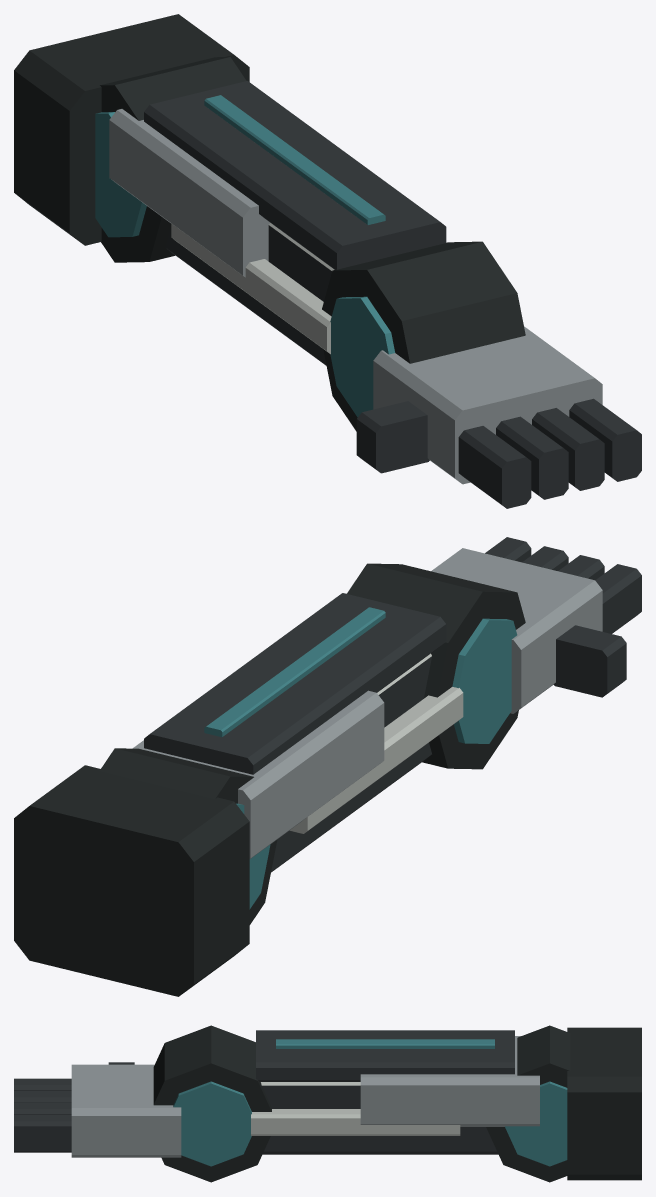
Rendered from BionicArm.gltf.
3 views of the same model, one above another, from view 1: azimuth 30°, elevation 25°; view 2: azimuth 150°, elevation 25°; view 3: azimuth 270°, elevation 25° (orthographic). The views are drawn at different scales.
Visible parts, largest first — view 1: BionicArm; view 2: BionicArm; view 3: BionicArm.
Boxes of the visible parts, x1,y1,x2,y2 form: BionicArm: (14, 14, 641, 508); BionicArm: (14, 537, 641, 996); BionicArm: (14, 1025, 641, 1182).
Size of the model in its own units: 0.1675 by 0.135 by 0.6305.
